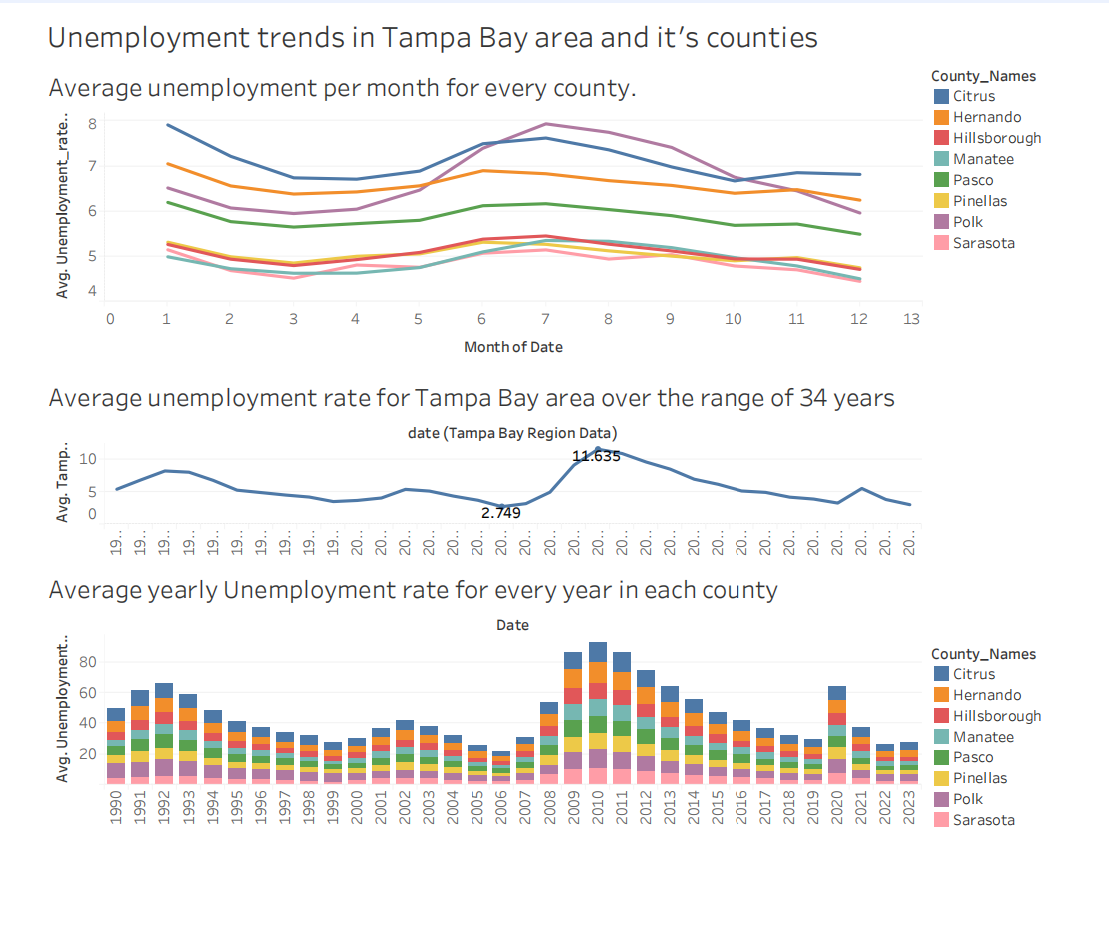

The page's visual inventory and layout, read from the dashboard file:
{"tool":"tableau","page":{"name":"Dashboard 1","canvas":[1000,800],"ordinal":0},"visuals":[{"type":"title","box":[8,8,984,42]},{"type":"worksheet","title":"Visualization 1","mark":"Automatic","rows":["Pivot Field Values"],"cols":["date"],"box":[8,50,848,297.2]},{"type":"legend","title":"Visualization 1","param":"[federated.0j8qhts1kynwjc1bldg471kytzya].[none:Pivot Field Names:nk]","box":[856,50,136,187]},{"type":"worksheet","title":"Visualization 2","mark":"Line","rows":["Tampa Bay Region Unemployment Rate"],"cols":["date (Tampa Bay Region Data)"],"box":[8,347.2,848,185.5]},{"type":"worksheet","title":"Visualization 3","mark":"Bar","rows":["Pivot Field Values"],"cols":["date"],"box":[8,532.7,848,259.3]},{"type":"legend","title":"Visualization 3","param":"[federated.0j8qhts1kynwjc1bldg471kytzya].[none:Pivot Field Names:nk]","box":[856,606.5,136,185.5]}]}

Visuals, with their boxes on the page's 1000x800 design canvas (x1, y1, x2, y2). These are canvas units, not pixel positions in the 1109x929 screenshot, which may show the page scaled, cropped or inside an application window:
title: <region>8, 8, 992, 50</region>
"Visualization 1" worksheet: <region>8, 50, 856, 347</region>
"Visualization 1" legend: <region>856, 50, 992, 237</region>
"Visualization 2" worksheet (Line marks): <region>8, 347, 856, 533</region>
"Visualization 3" worksheet (Bar marks): <region>8, 533, 856, 792</region>
"Visualization 3" legend: <region>856, 606, 992, 792</region>
